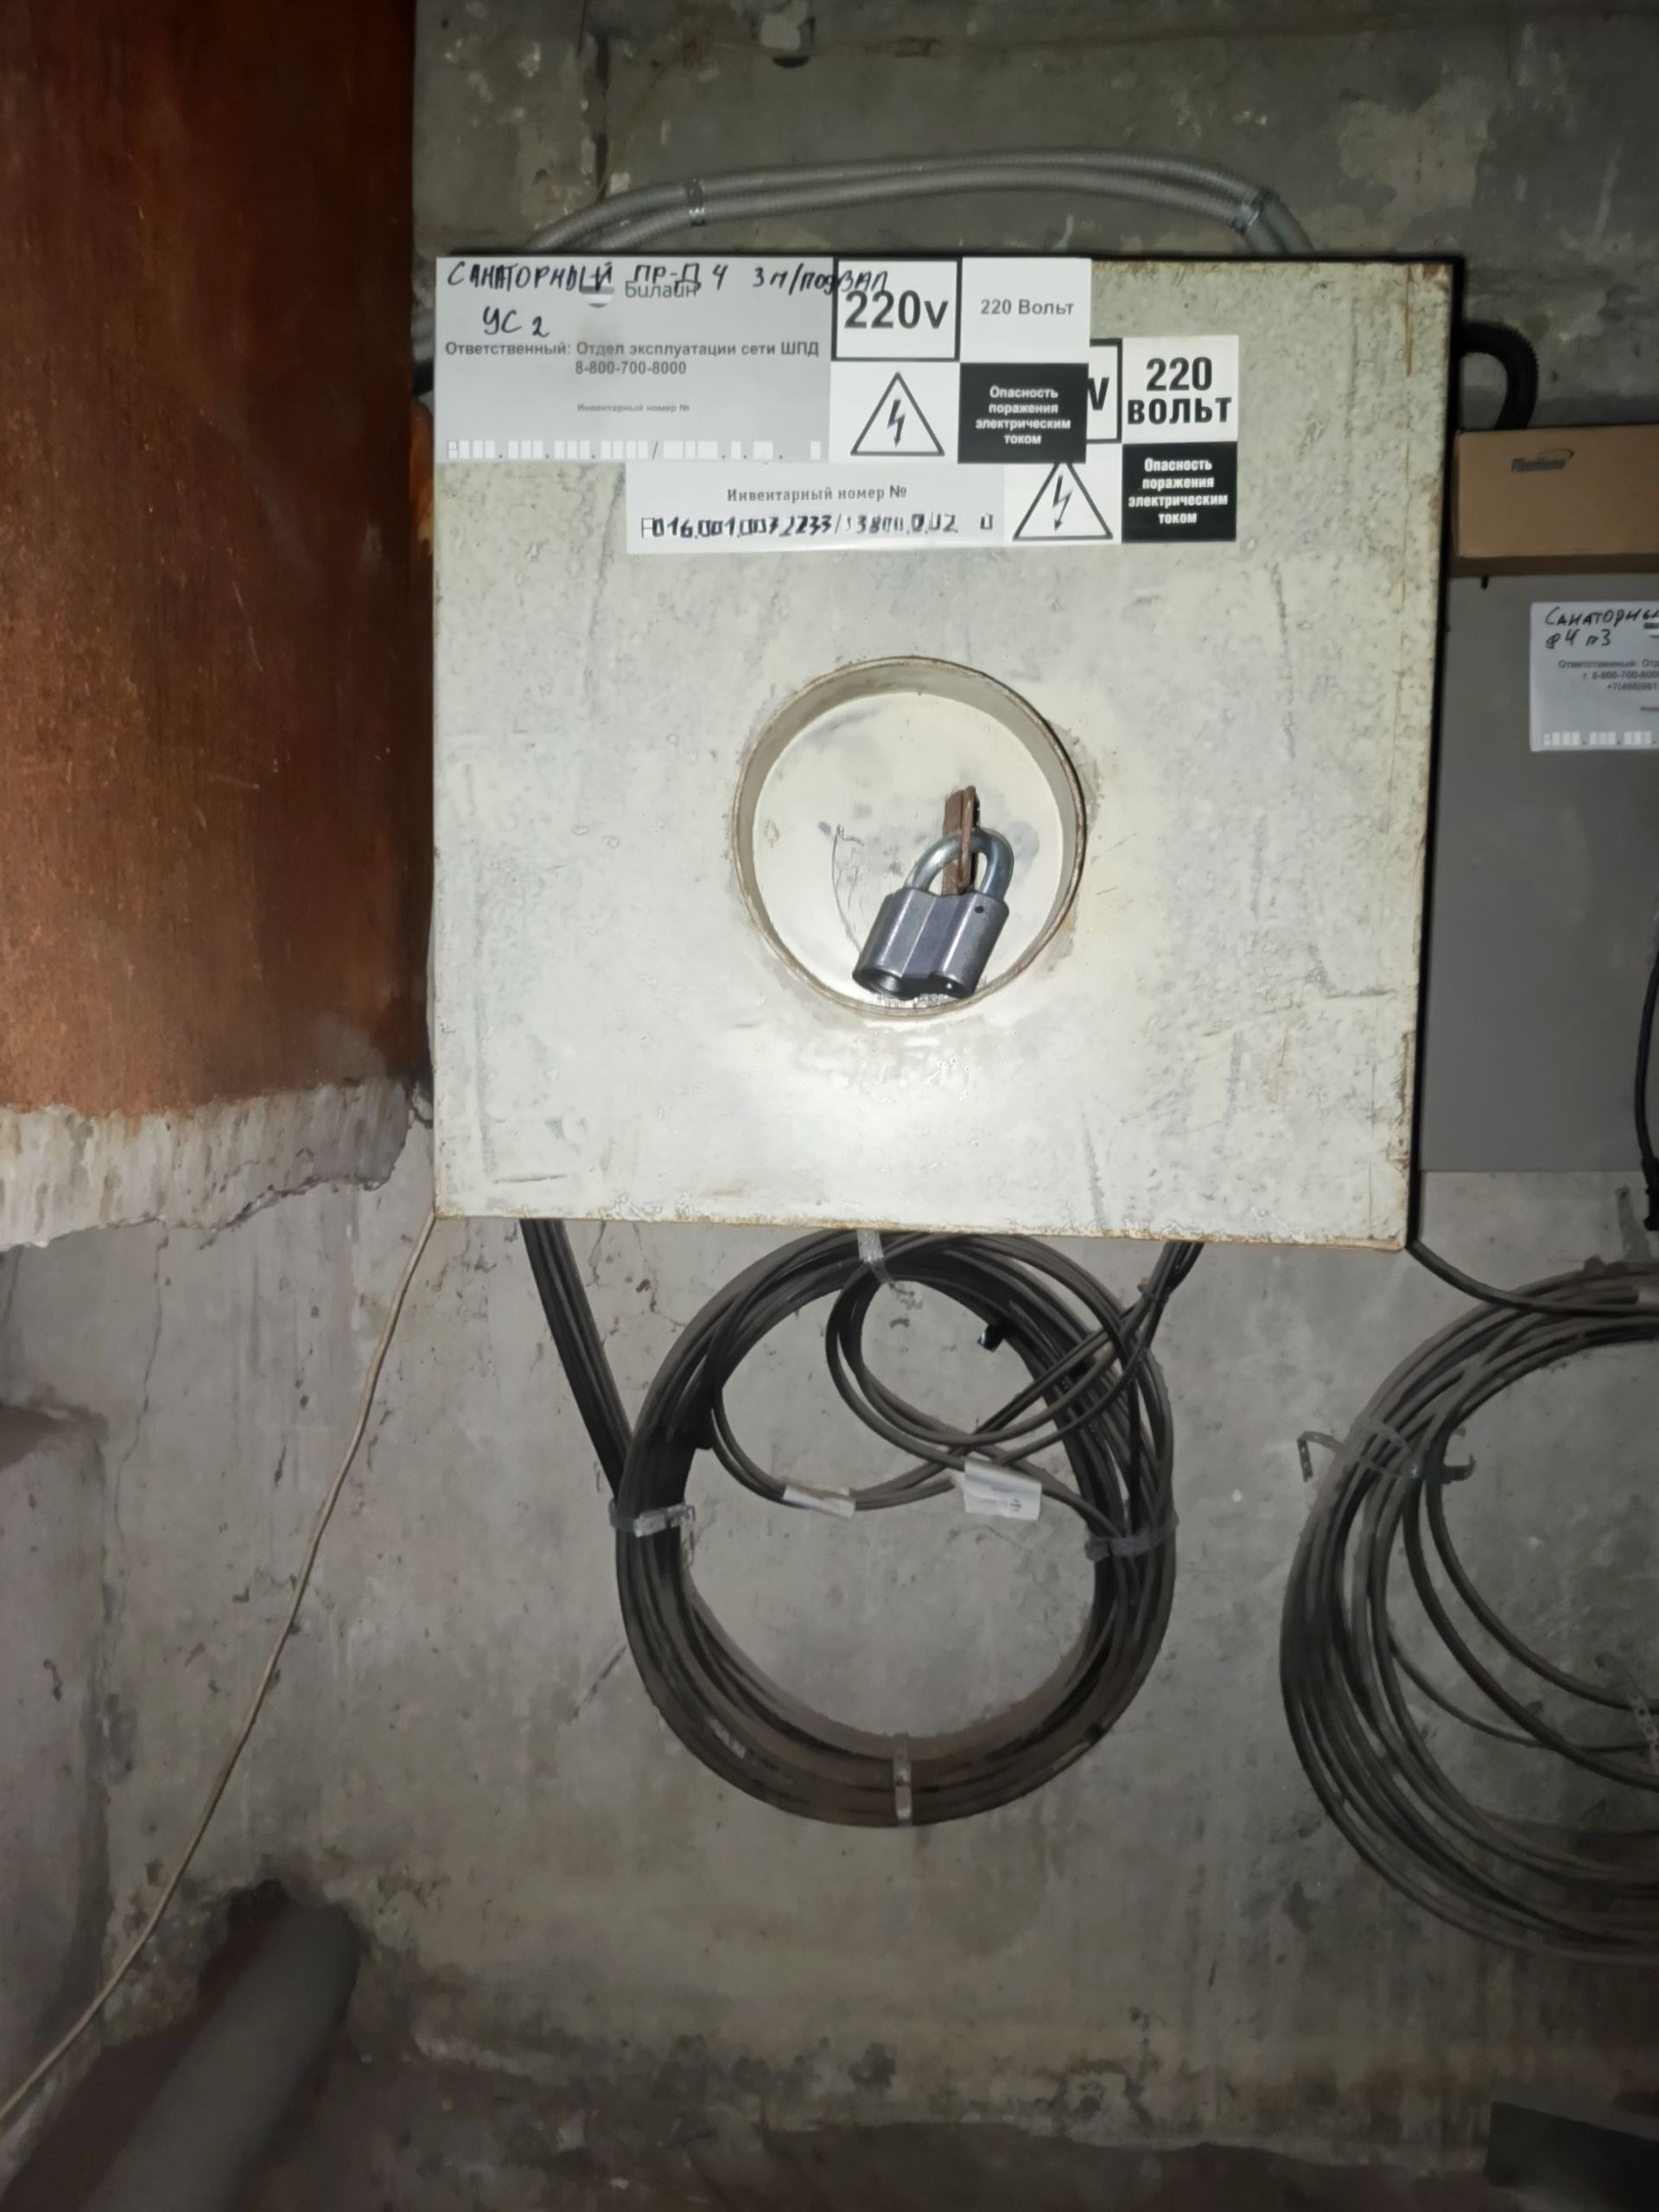shta-9: (387, 218, 1483, 1264)
